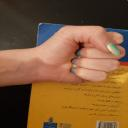Fist: (41, 24, 128, 86)
